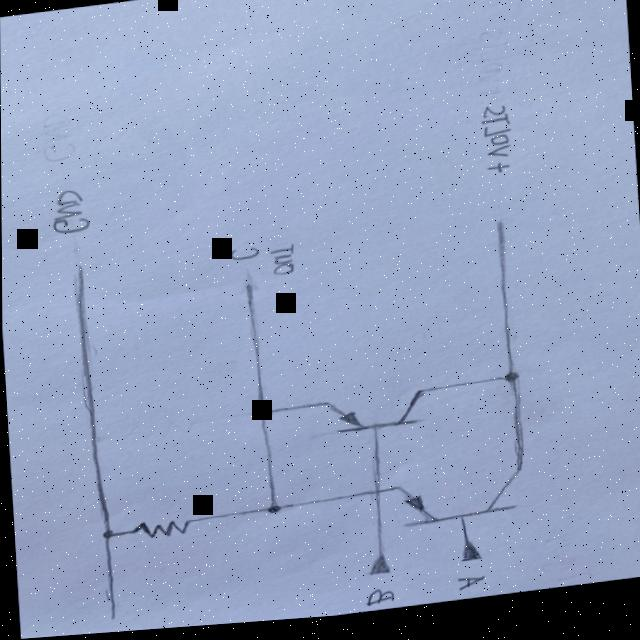crossover: (366, 490, 387, 504)
junction: (247, 402, 280, 426), (494, 372, 526, 396), (260, 503, 293, 523), (95, 527, 123, 545)
resistor: (130, 511, 205, 548)
terminal: (362, 552, 399, 586), (454, 538, 489, 573), (65, 255, 97, 291), (489, 220, 514, 247), (238, 280, 263, 307), (101, 606, 125, 625)
text: (49, 185, 96, 239), (476, 109, 518, 167), (268, 246, 305, 282), (361, 591, 402, 615), (227, 244, 264, 267), (453, 579, 490, 600), (485, 167, 517, 185)
transistor: (391, 471, 529, 537), (320, 387, 431, 446)
